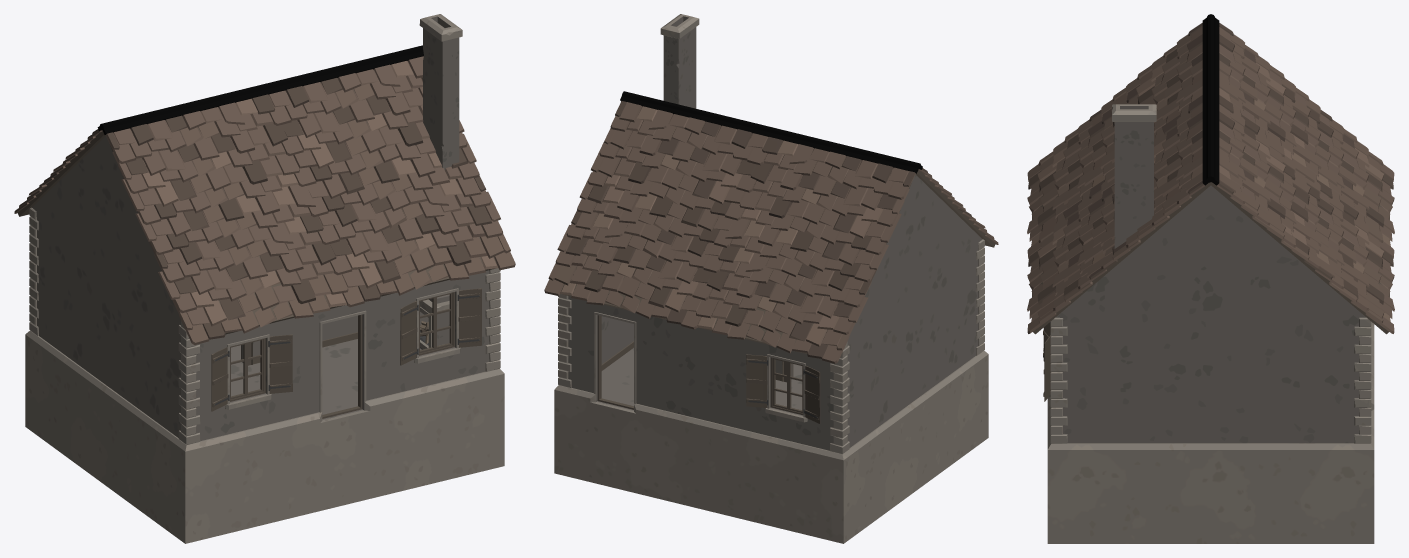
Rendered from house_2.glb.
3 renders of one model, left to right at view 1: azimuth 30°, elevation 25°; view 2: azimuth 150°, elevation 25°; view 3: azimuth 270°, elevation 25°, orthographic. The views are drawn at different scales.
Parts seen in each view (by area): view 1: Bld_House_02_LOD1; view 2: Bld_House_02_LOD1; view 3: Bld_House_02_LOD1.
Boxes of the visible parts, x1,y1,x2,y2 form: Bld_House_02_LOD1: (14, 14, 515, 543); Bld_House_02_LOD1: (544, 14, 998, 543); Bld_House_02_LOD1: (1027, 14, 1394, 543).
Bounding box in the file's own units: 7.14 × 8.64 × 6.76.
Materials: 3 (3 with a texture image).
